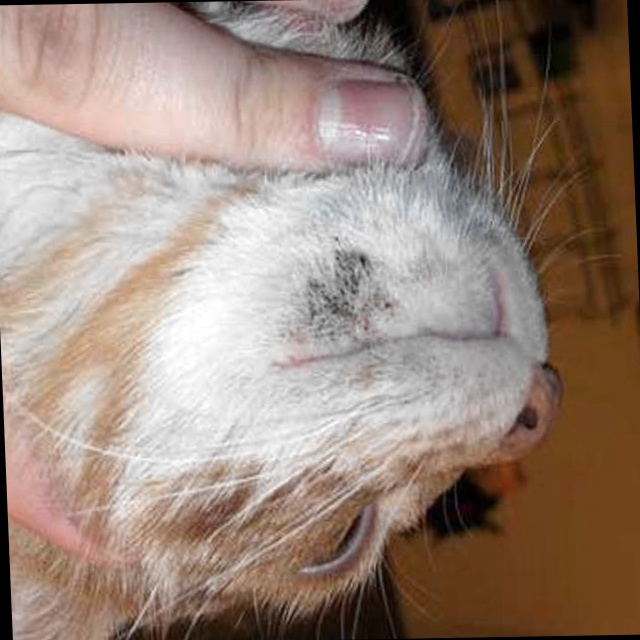acne: (297, 244, 395, 343)
